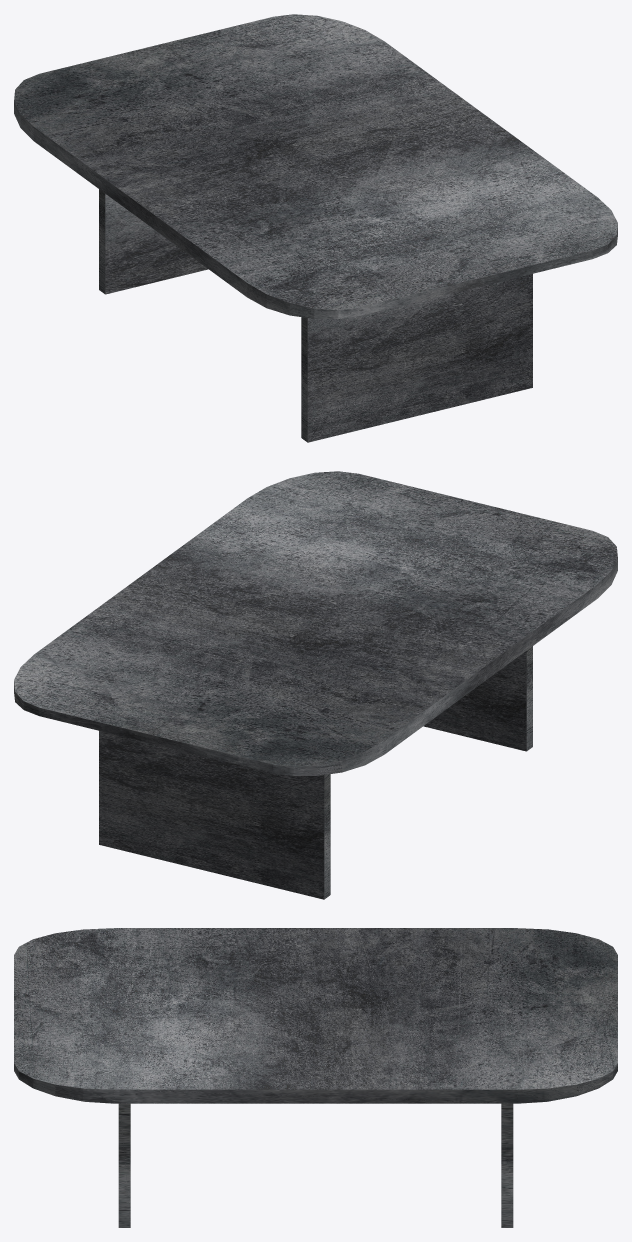
Rendered from temptable.fbx.
3 renders of one model, top to bottom at view 1: azimuth 30°, elevation 25°; view 2: azimuth 150°, elevation 25°; view 3: azimuth 270°, elevation 25°, orthographic. The views are drawn at different scales.
Visible parts, largest first — view 1: Table; view 2: Table; view 3: Table.
Boxes of the visible parts, left/top/right/bottom form: Table: left=14, top=14, right=617, bottom=442; Table: left=14, top=471, right=617, bottom=899; Table: left=14, top=928, right=617, bottom=1227.
Size of the model in its own units: 380 by 183 by 600.
Materials: 1 (1 with a texture image).
